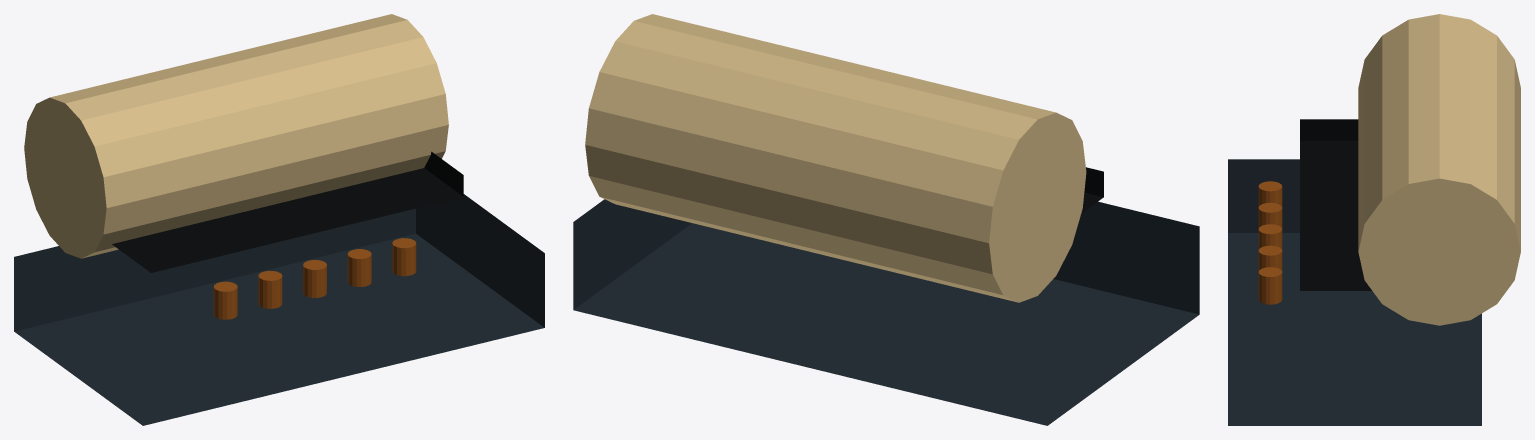
3 renders of one model, left to right at view 1: azimuth 30°, elevation 25°; view 2: azimuth 150°, elevation 25°; view 3: azimuth 270°, elevation 25°, orthographic. The views are drawn at different scales.
Parts seen in each view (by area): view 1: painted_metal, ivory, rubber, brass; view 2: ivory, painted_metal, rubber; view 3: ivory, painted_metal, rubber, brass.
Part boxes in pixels (bbox=[...]): painted_metal: bbox=[14, 194, 544, 425]; ivory: bbox=[24, 14, 448, 258]; rubber: bbox=[112, 151, 463, 272]; brass: bbox=[213, 238, 416, 319]; ivory: bbox=[585, 14, 1086, 302]; painted_metal: bbox=[573, 199, 1199, 425]; rubber: bbox=[1081, 167, 1103, 213]; ivory: bbox=[1358, 14, 1520, 325]; painted_metal: bbox=[1228, 159, 1481, 425]; rubber: bbox=[1300, 119, 1371, 290]; brass: bbox=[1258, 181, 1282, 304].
Size of the model in its own units: 2.7 by 1.52 by 1.73.
